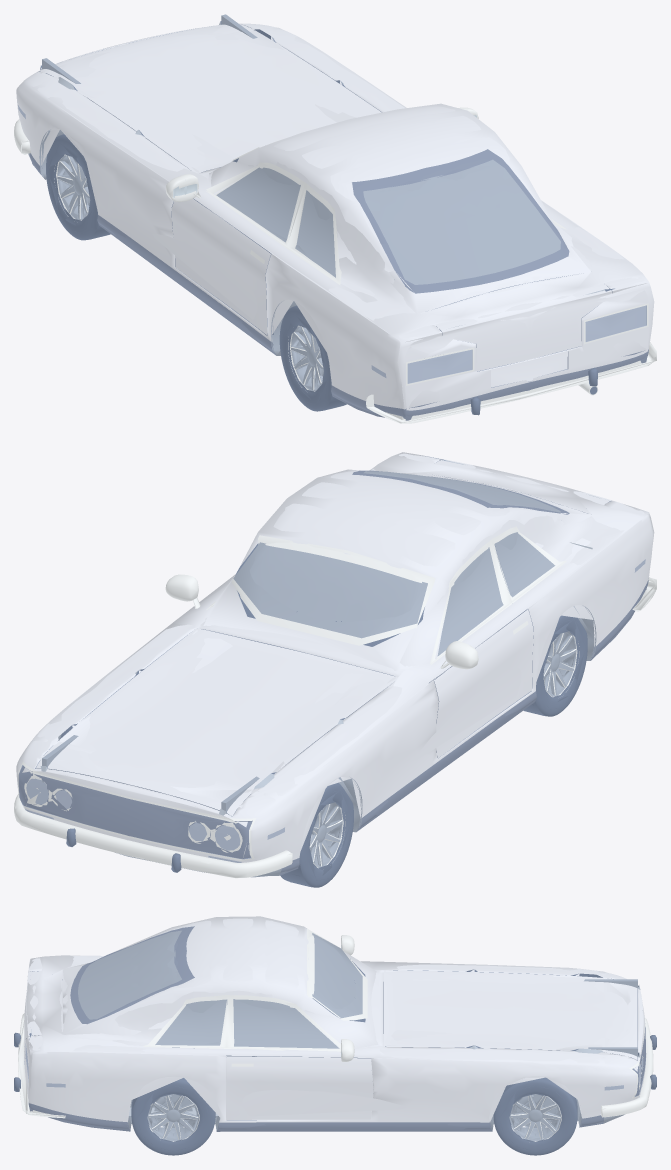
Rendered from coupe.glb.
The picture shows the model from 3 angles, top to bottom: view 1: azimuth 30°, elevation 25°; view 2: azimuth 150°, elevation 25°; view 3: azimuth 270°, elevation 25°; orthographic projection. The views are drawn at different scales.
Visible parts, largest first — view 1: near_body_mesh, street_body_mesh, far_body_mesh, near_door_mesh, near_wheel_rl_mesh, near_wheel_fl_mesh, far_door_mesh, street_door_glass_mesh, street_body_glass_mesh, street_door_mesh; view 2: near_body_mesh, street_body_mesh, far_body_mesh, near_body_glass_mesh, near_door_mesh, street_body_glass_mesh, near_wheel_fl_mesh, street_door_glass_mesh, far_door_mesh, near_wheel_rl_mesh, street_door_mesh; view 3: near_body_mesh, street_body_mesh, far_body_mesh, street_body_glass_mesh, near_wheel_fr_mesh, near_wheel_rr_mesh, near_body_glass_mesh.
Boxes of the visible parts, x1=… form: near_body_mesh: x1=14, y1=14, x2=653, y2=423; street_body_mesh: x1=15, y1=23, x2=656, y2=423; far_body_mesh: x1=31, y1=27, x2=656, y2=420; near_door_mesh: x1=165, y1=162, x2=306, y2=335; near_wheel_rl_mesh: x1=279, y1=305, x2=346, y2=411; near_wheel_fl_mesh: x1=46, y1=134, x2=110, y2=240; far_door_mesh: x1=152, y1=165, x2=304, y2=334; street_door_glass_mesh: x1=216, y1=167, x2=300, y2=238; street_body_glass_mesh: x1=296, y1=190, x2=335, y2=277; street_door_mesh: x1=175, y1=162, x2=307, y2=334; near_body_mesh: x1=14, y1=453, x2=656, y2=878; street_body_mesh: x1=15, y1=452, x2=656, y2=886; far_body_mesh: x1=18, y1=456, x2=655, y2=877; near_body_glass_mesh: x1=238, y1=532, x2=533, y2=643; near_door_mesh: x1=430, y1=542, x2=533, y2=758; street_body_glass_mesh: x1=233, y1=533, x2=555, y2=638; near_wheel_fl_mesh: x1=280, y1=782, x2=353, y2=887; street_door_glass_mesh: x1=437, y1=547, x2=501, y2=656; far_door_mesh: x1=414, y1=540, x2=559, y2=760; near_wheel_rl_mesh: x1=523, y1=615, x2=587, y2=716; street_door_mesh: x1=431, y1=538, x2=511, y2=748; near_body_mesh: x1=14, y1=918, x2=656, y2=1129; street_body_mesh: x1=18, y1=916, x2=649, y2=1150; far_body_mesh: x1=24, y1=963, x2=645, y2=1140; street_body_glass_mesh: x1=155, y1=933, x2=362, y2=1048; near_wheel_fr_mesh: x1=493, y1=1077, x2=577, y2=1155; near_wheel_rr_mesh: x1=131, y1=1078, x2=215, y2=1155; near_body_glass_mesh: x1=186, y1=936, x2=357, y2=1047.
Bounding box in the file's own units: 2 × 1.3 × 4.65.
